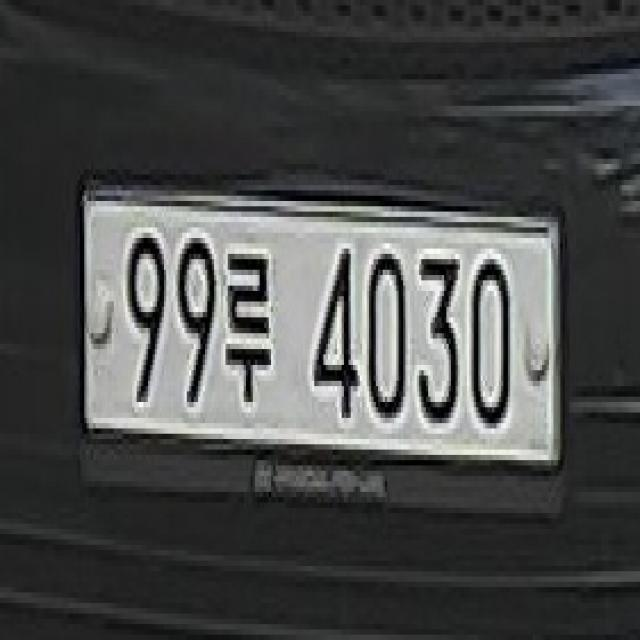0: (467, 232, 517, 439), (366, 231, 412, 428)
3: (413, 230, 464, 436)
4: (308, 230, 363, 420)
9: (170, 224, 220, 410), (122, 222, 166, 410)
license_plate: (79, 183, 572, 480)
lu: (226, 231, 274, 415)
